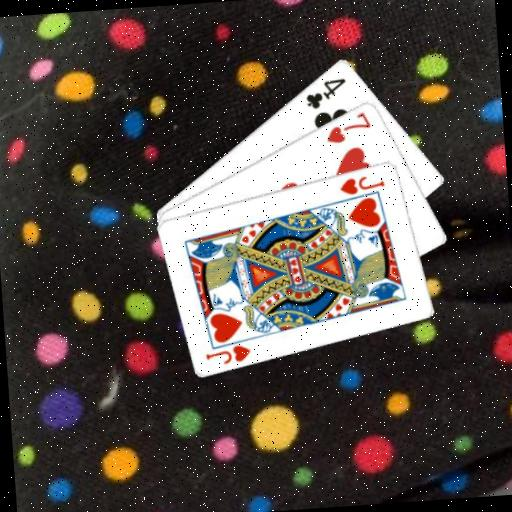4C: (302, 75, 350, 112)
7H: (321, 108, 374, 146)
JH: (336, 171, 387, 197), (203, 341, 253, 367)
